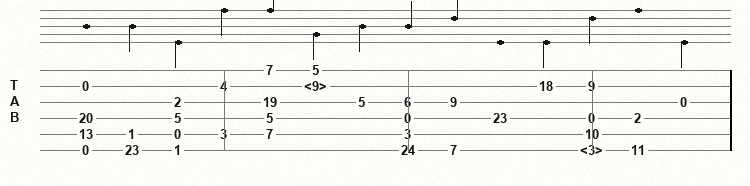0: (82, 143, 93, 157), (82, 79, 93, 93), (174, 127, 185, 141), (404, 111, 415, 125), (588, 111, 599, 125), (680, 95, 691, 109)
1: (128, 127, 139, 141), (174, 143, 185, 157)
10: (585, 127, 603, 141)
11: (631, 143, 649, 157)
13: (79, 127, 97, 141)
18: (539, 79, 557, 93)
19: (263, 95, 281, 109)
2: (174, 95, 185, 109), (634, 111, 645, 125)
20: (79, 111, 97, 125)
23: (125, 143, 143, 157), (493, 111, 511, 125)
24: (401, 143, 419, 157)
3: (220, 127, 231, 141), (404, 127, 415, 141)
4: (220, 79, 231, 93)
5: (174, 111, 185, 125), (266, 111, 277, 125), (312, 63, 323, 77), (358, 95, 369, 109)
6: (404, 95, 415, 109)
7: (266, 127, 277, 141), (266, 63, 277, 77), (450, 143, 461, 157)
9: (450, 95, 461, 109), (588, 79, 599, 93)
harmonic: (304, 79, 331, 93), (580, 143, 607, 157)
